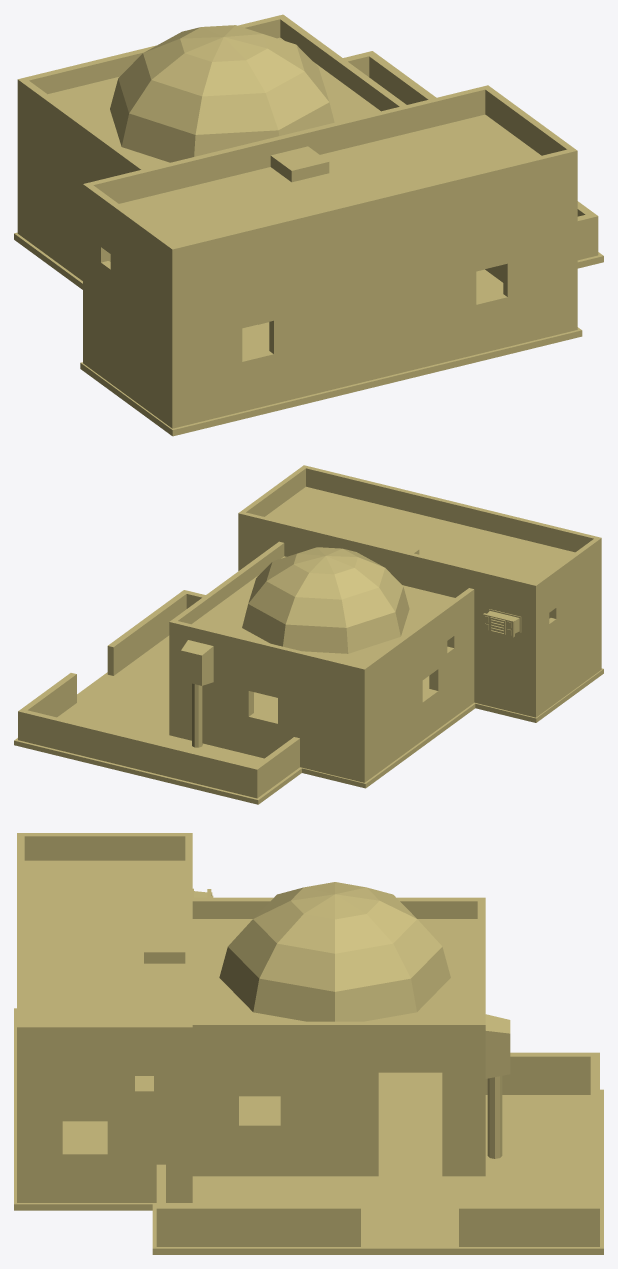
File: DesertBuilding1.fbx
3 renders of one model, top to bottom at view 1: azimuth 30°, elevation 25°; view 2: azimuth 150°, elevation 25°; view 3: azimuth 270°, elevation 25°, orthographic. The views are drawn at different scales.
Parts seen in each view (by area): view 1: Cube.001, Sphere.001, Cube; view 2: Cube.001, Cube, Sphere.001; view 3: Cube.001, Cube, Sphere.001.
Boxes of the visible parts, left/top/right/bottom form: Cube.001: left=17, top=14, right=577, bottom=428; Sphere.001: left=110, top=25, right=334, bottom=162; Cube: left=14, top=51, right=603, bottom=436; Cube.001: left=169, top=465, right=601, bottom=782; Cube: left=14, top=590, right=603, bottom=804; Sphere.001: left=242, top=547, right=409, bottom=653; Cube.001: left=17, top=833, right=510, bottom=1202; Cube: left=14, top=1008, right=603, bottom=1254; Sphere.001: left=219, top=882, right=450, bottom=1021.
Bounding box in the file's own units: 1249 × 540 × 1295.
